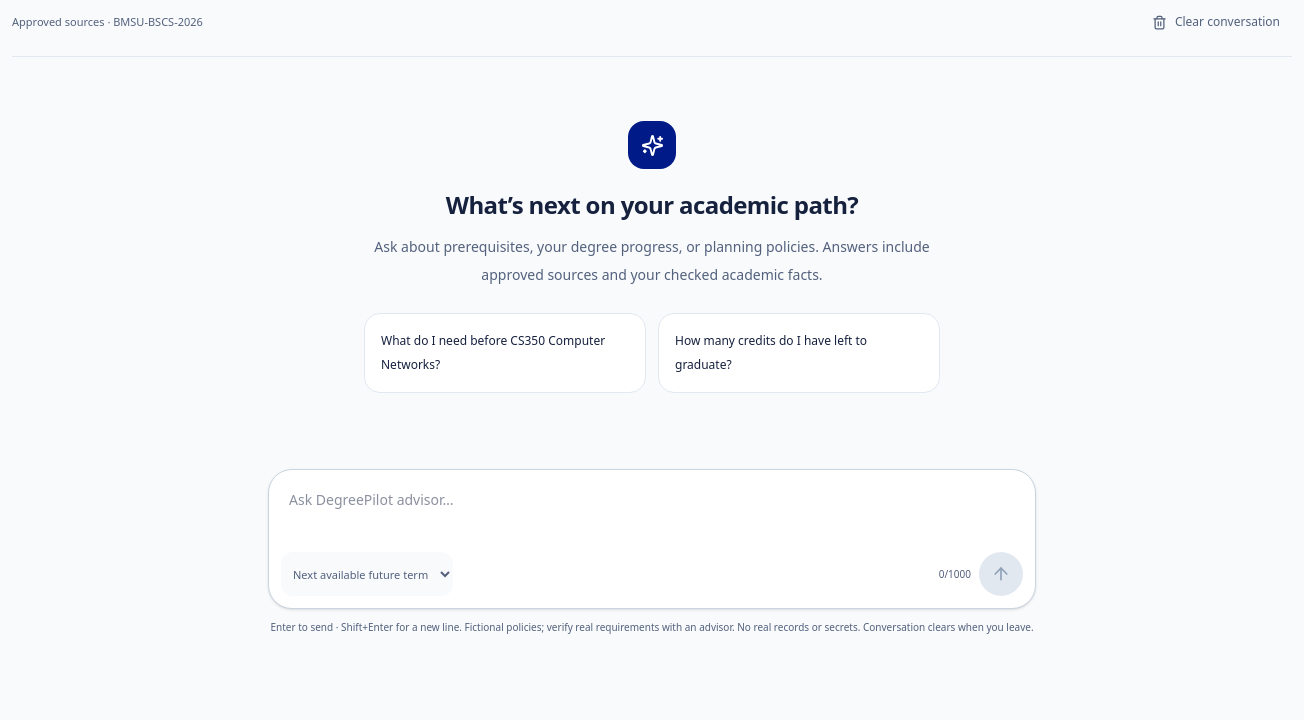
Scenario: Shift+Enter inserts a newline and failed sends restore the question for retry
The width and height of the screenshot is (1304, 720).
Type "Why CS401?" into the text box named "Your question".
click(652, 514); type("Why CS401?")  # box [281,482,1023,546]
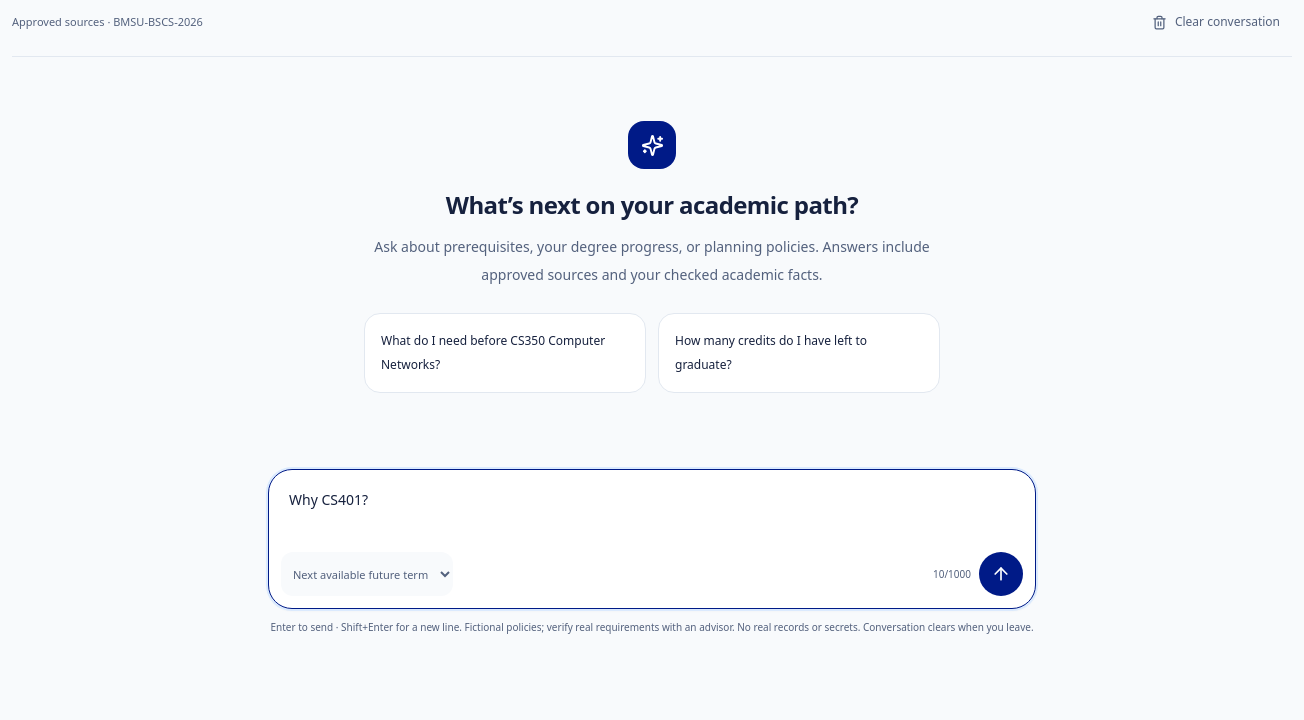
Type keys "{Shift>}{Enter}{/Shift}"
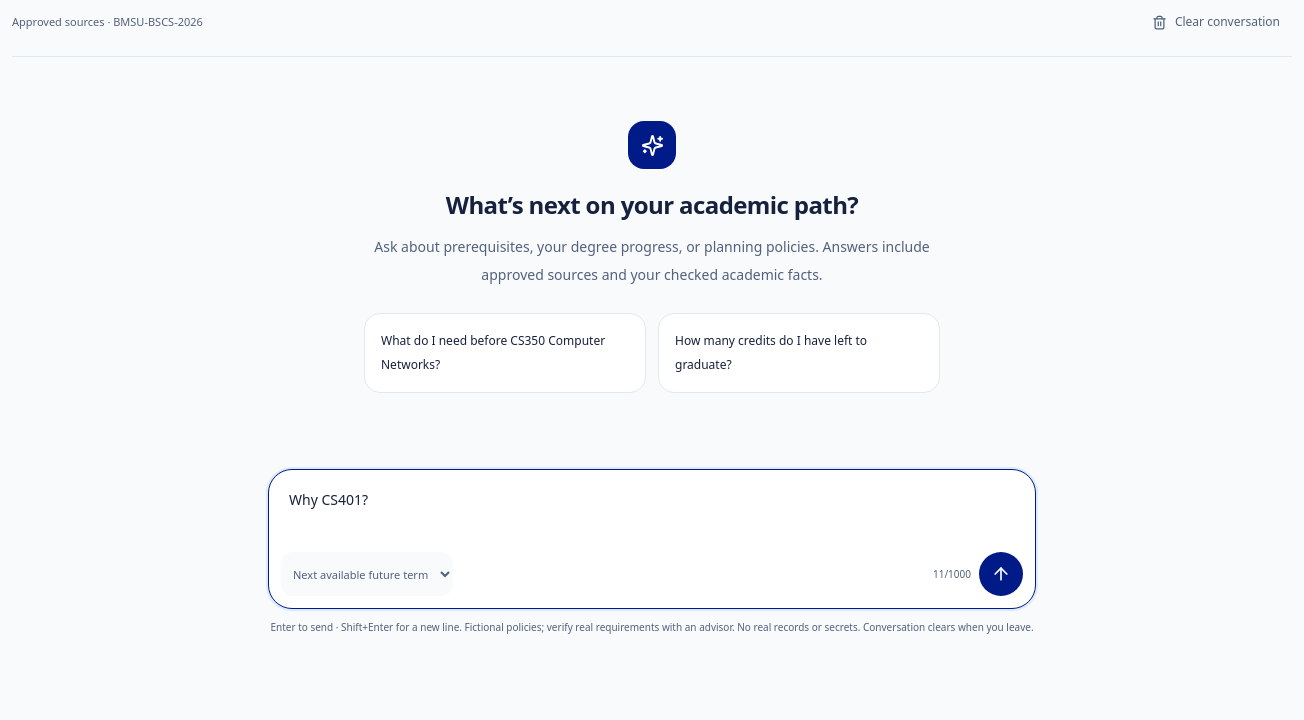
Press Enter
(page scrolled)
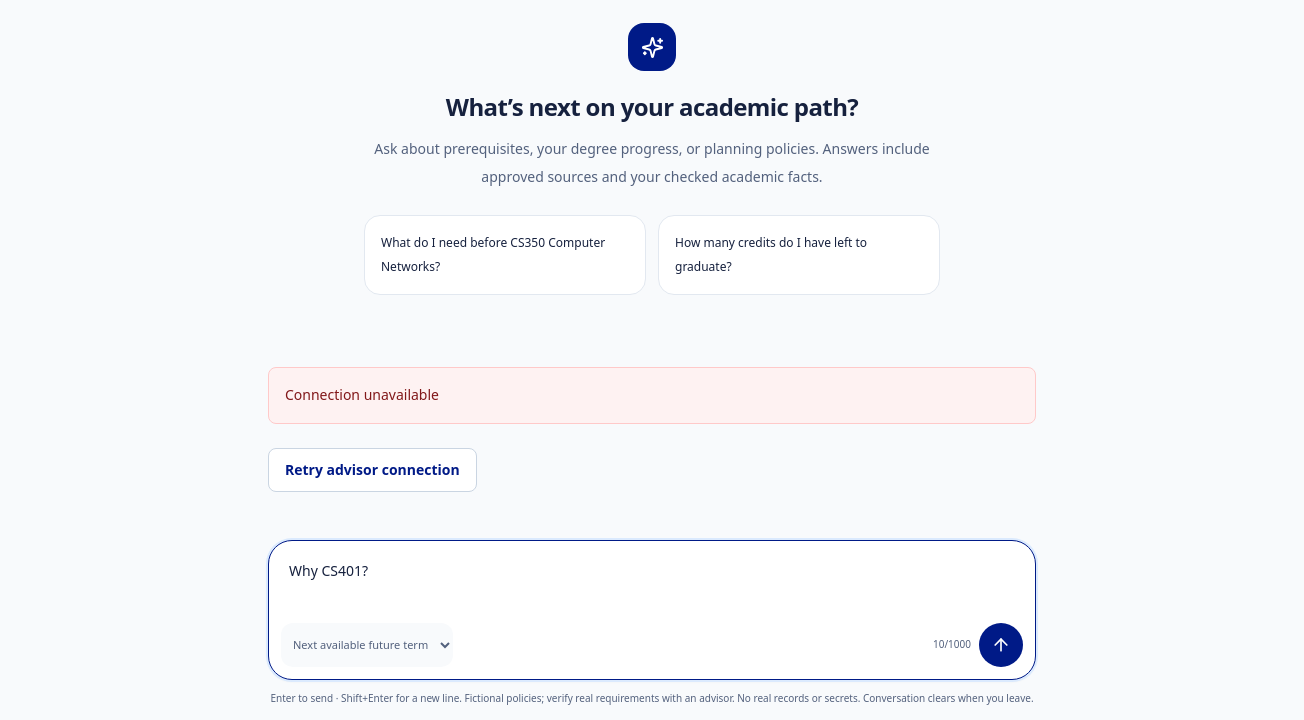
Result: the button named "Send question" is enabled at [979,623,1023,667]
Result: the message reads "Connection unavailable" at [285,385,439,404]
